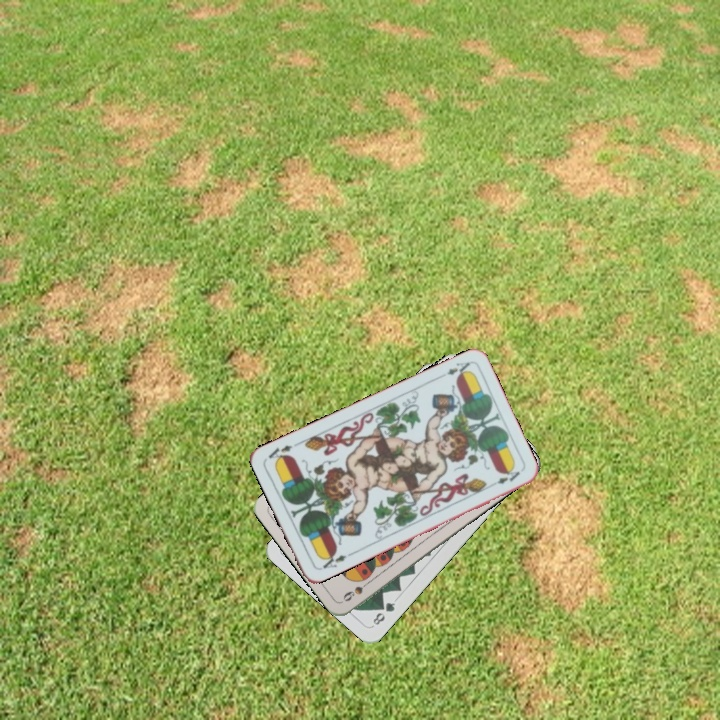EA: (435, 358, 473, 381), (316, 548, 349, 572)
G8: (368, 598, 398, 628)
S9: (339, 575, 375, 604)
